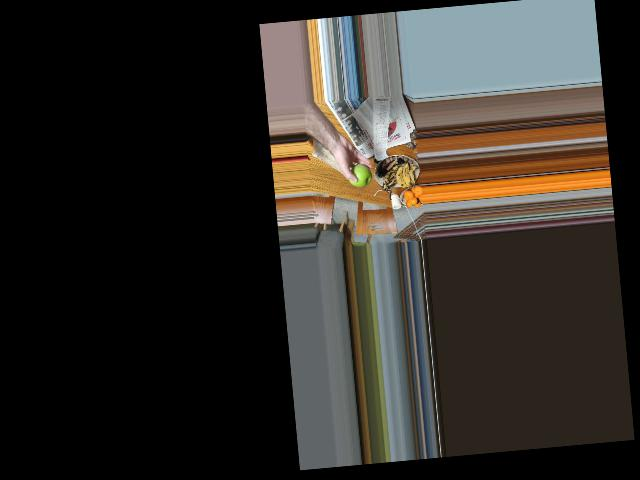apple: (346, 159, 373, 190)
